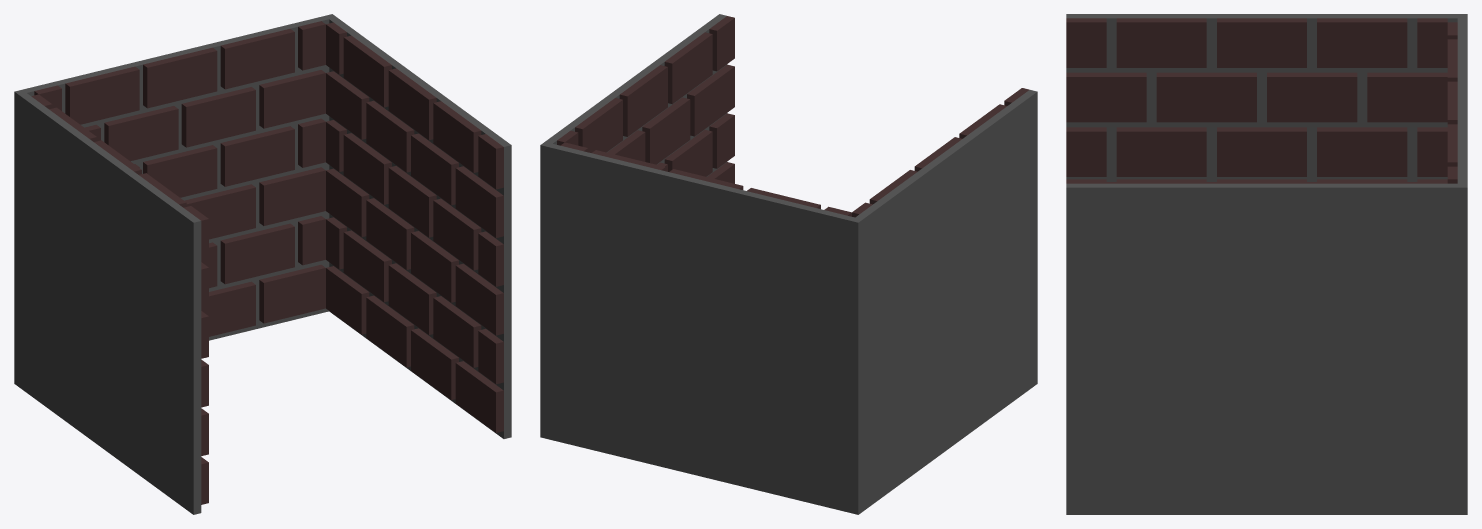
The model's file is Wall.obj.
3 views of the same model, side by side, from view 1: azimuth 30°, elevation 25°; view 2: azimuth 150°, elevation 25°; view 3: azimuth 270°, elevation 25° (orthographic). The views are drawn at different scales.
Size of the model in its own units: 4.1 by 3.6 by 4.
Materials: 1 (1 with a texture image).
